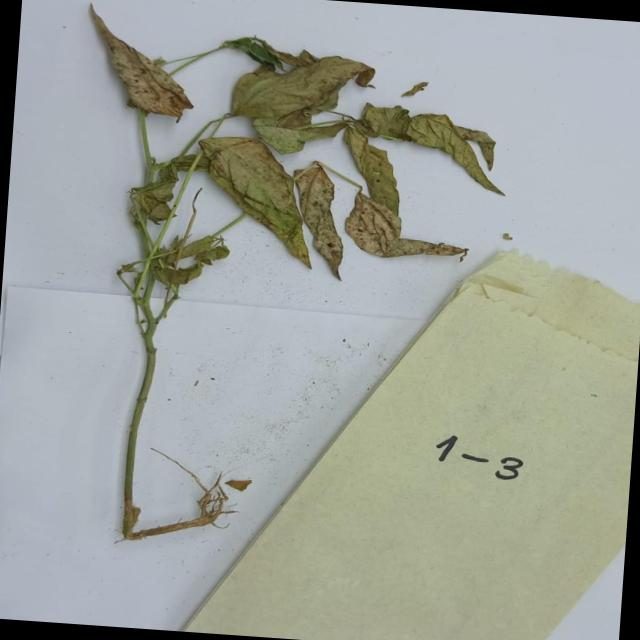Root: (142, 444, 259, 538), (105, 507, 238, 552)
Stem: (120, 336, 156, 504), (130, 110, 171, 182), (134, 275, 172, 339), (208, 204, 255, 240)
rooten_leaf: (188, 126, 380, 268), (333, 100, 568, 204), (326, 128, 488, 260), (78, 8, 204, 121), (234, 43, 372, 128), (147, 237, 230, 288), (120, 178, 190, 225)
